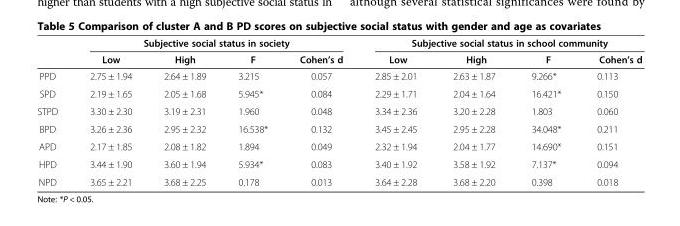table: (36, 36, 641, 187)
table column: (434, 36, 512, 187), (358, 36, 434, 187), (283, 36, 358, 187), (73, 36, 147, 187), (147, 36, 221, 187), (512, 36, 578, 187), (578, 36, 641, 187), (221, 36, 283, 187), (36, 36, 73, 187)
table column header: (36, 36, 641, 67)
table row: (36, 84, 641, 102), (36, 119, 641, 137), (36, 137, 641, 155), (36, 50, 641, 67), (36, 67, 641, 84), (36, 102, 641, 119), (36, 155, 641, 172), (36, 172, 641, 187), (36, 36, 641, 50)
table spanning cell: (73, 36, 358, 50), (358, 36, 641, 50)
